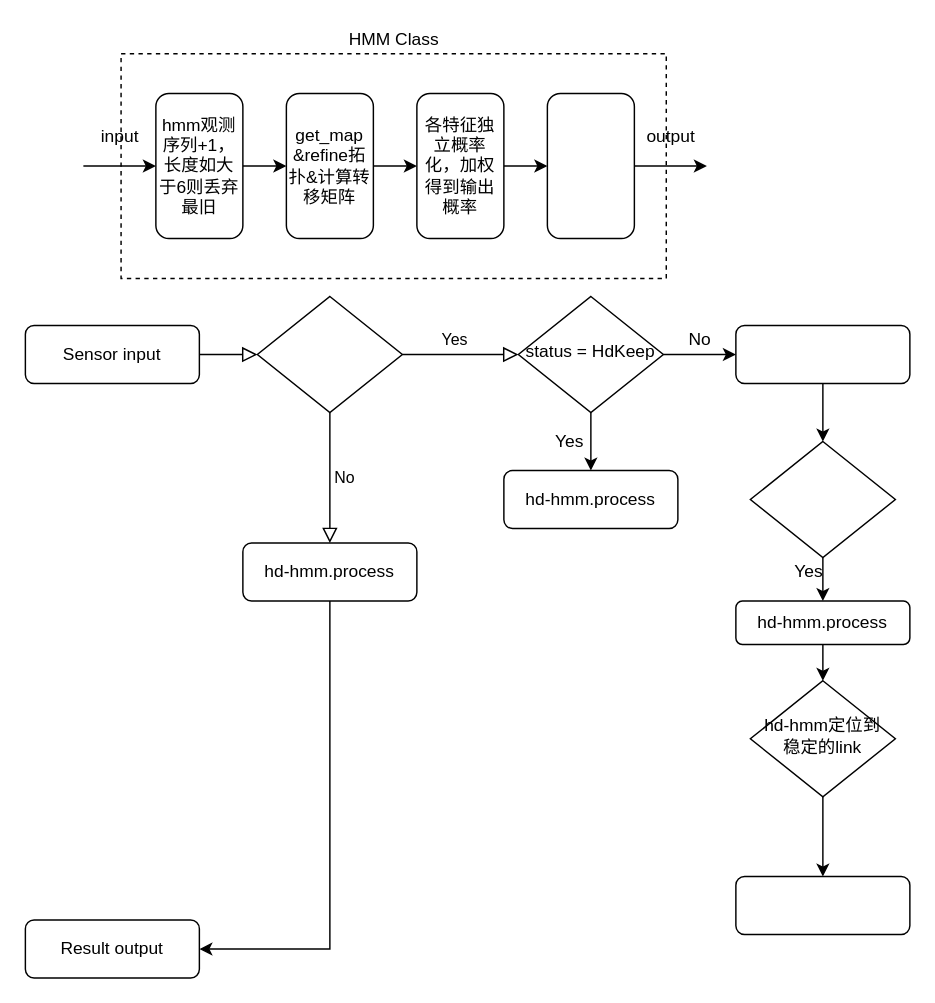
The diagram is 935 pixels wide and 1003 high, and some of its shapes have lost their labels. Each missing label, with the centre of its shape:
have_sd: [329,354]
sd-hmm.process: [822,354]
sd-hmm定位到稳定的主路link: [822,499]
set status=HdKeep: [822,905]
找出最大概率的隐状态链: [590,165]
